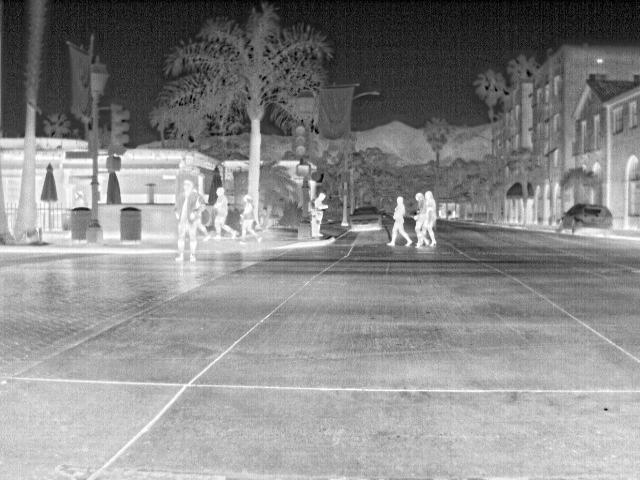car: (556, 204, 620, 237), (345, 206, 387, 234)
person: (172, 177, 208, 263), (208, 188, 240, 237), (390, 193, 414, 245), (421, 188, 440, 250), (239, 194, 262, 243), (308, 191, 331, 237), (410, 190, 424, 250)
